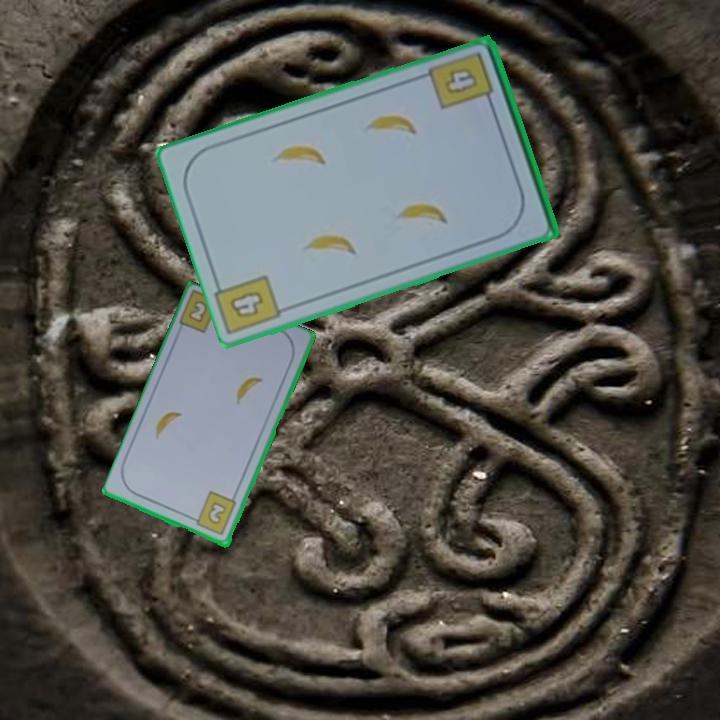2b: (188, 488, 239, 538), (187, 299, 208, 323)
4b: (427, 48, 497, 113), (225, 288, 266, 322)
